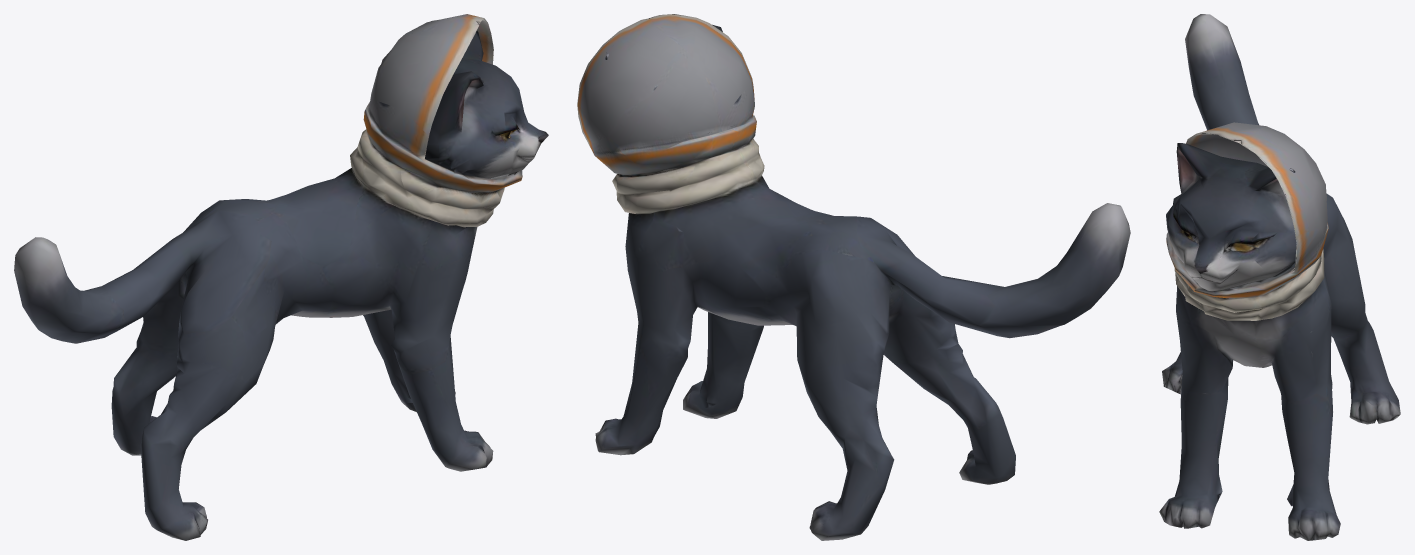
The model's file is GIMBALPAW-lo.glb.
3 renders of one model, left to right at view 1: azimuth 30°, elevation 25°; view 2: azimuth 150°, elevation 25°; view 3: azimuth 270°, elevation 25°, orthographic. The views are drawn at different scales.
Parts seen in each view (by area): view 1: tripo_node_547ff786-f31c-4ae9-bf9d-bf1eaf30429d; view 2: tripo_node_547ff786-f31c-4ae9-bf9d-bf1eaf30429d; view 3: tripo_node_547ff786-f31c-4ae9-bf9d-bf1eaf30429d.
Part boxes in pixels (bbox=[...]): tripo_node_547ff786-f31c-4ae9-bf9d-bf1eaf30429d: bbox=[14, 14, 548, 540]; tripo_node_547ff786-f31c-4ae9-bf9d-bf1eaf30429d: bbox=[577, 14, 1130, 540]; tripo_node_547ff786-f31c-4ae9-bf9d-bf1eaf30429d: bbox=[1159, 14, 1400, 540].
Size of the model in its own units: 1.32 by 0.9963 by 0.5449.
Materials: 1 (1 with a texture image).
